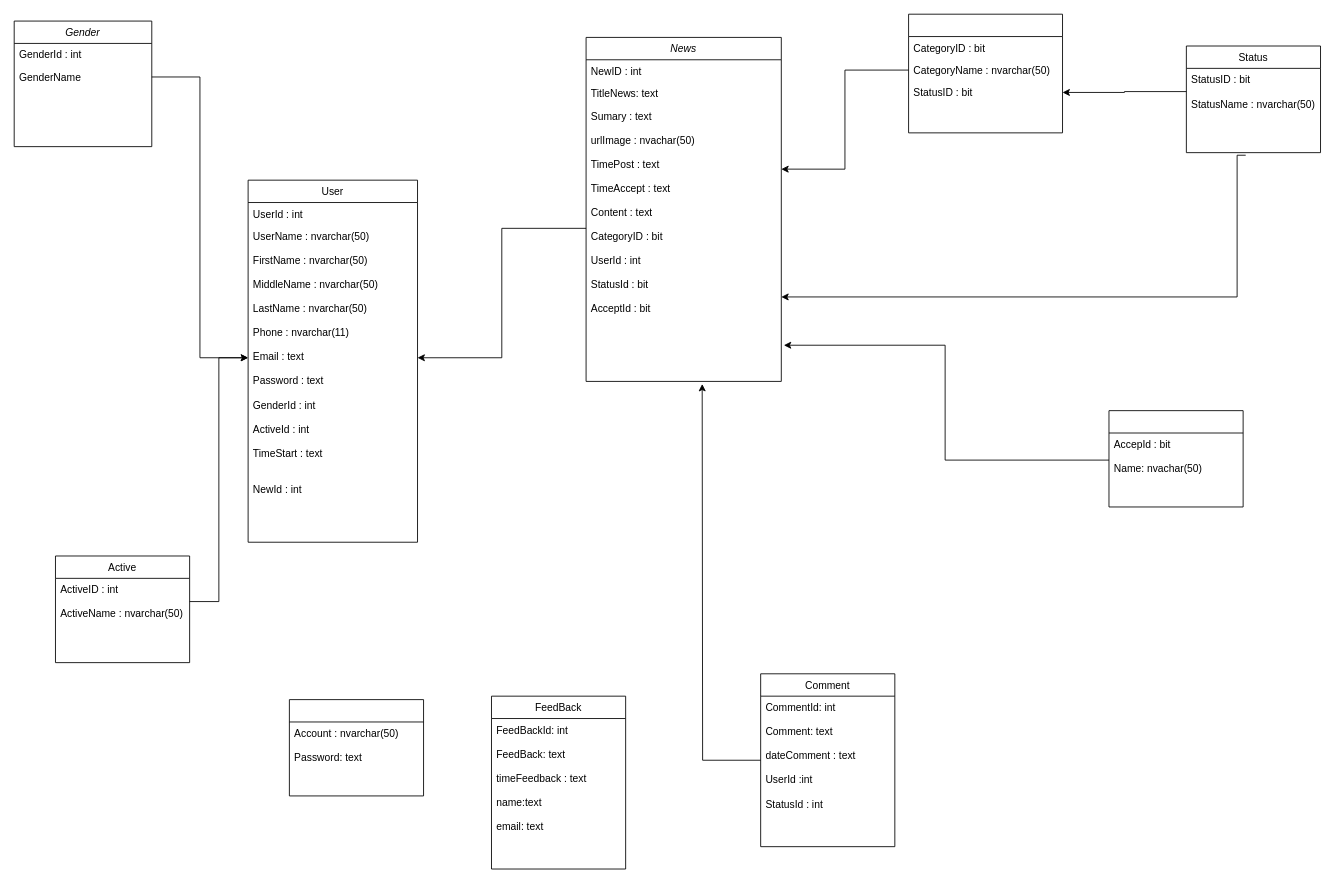
Image size: 1335x883. Some labels were removed from this diagram. The box of each missing label's shape, as (x1, y1, x2, y2) in pixels:
Accept: (1108, 410, 1243, 507)
Admin: (289, 699, 424, 796)
Category_News: (908, 13, 1063, 133)
